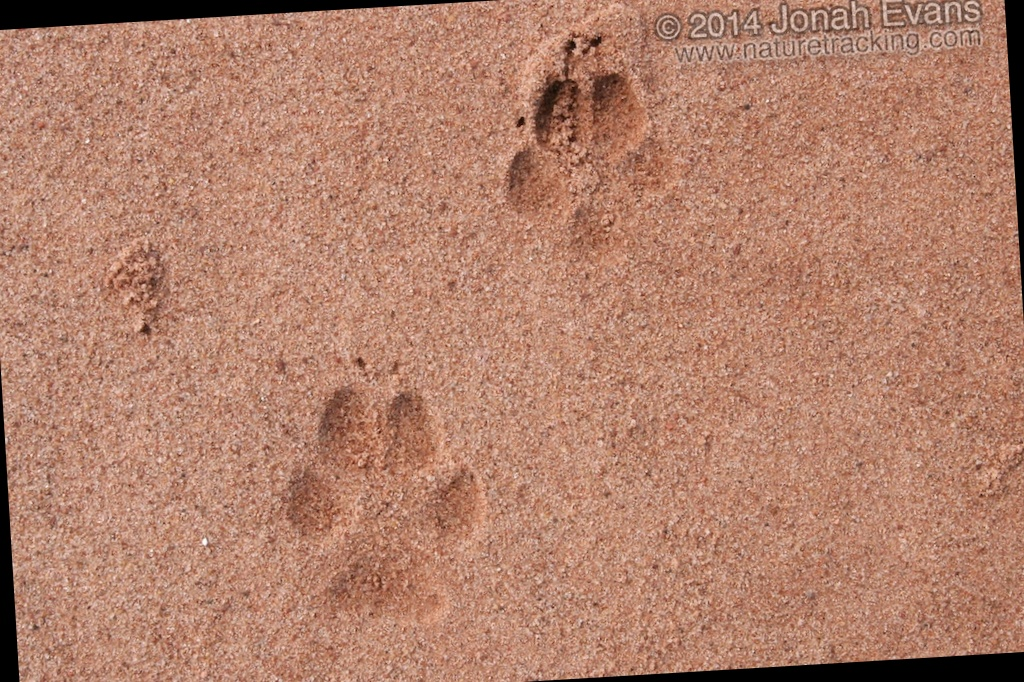coyote: (277, 378, 490, 630), (499, 62, 675, 269)
